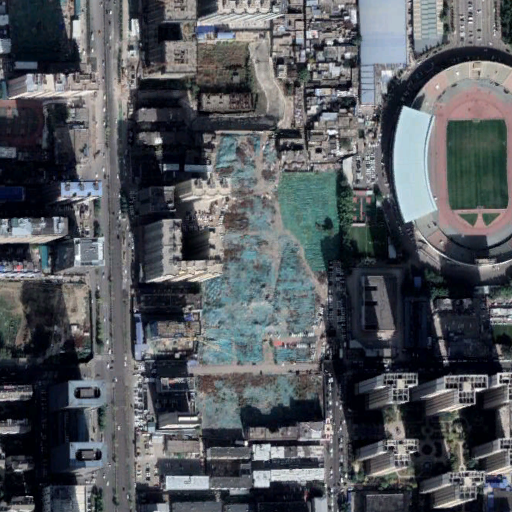cw: (189, 133, 338, 441)
